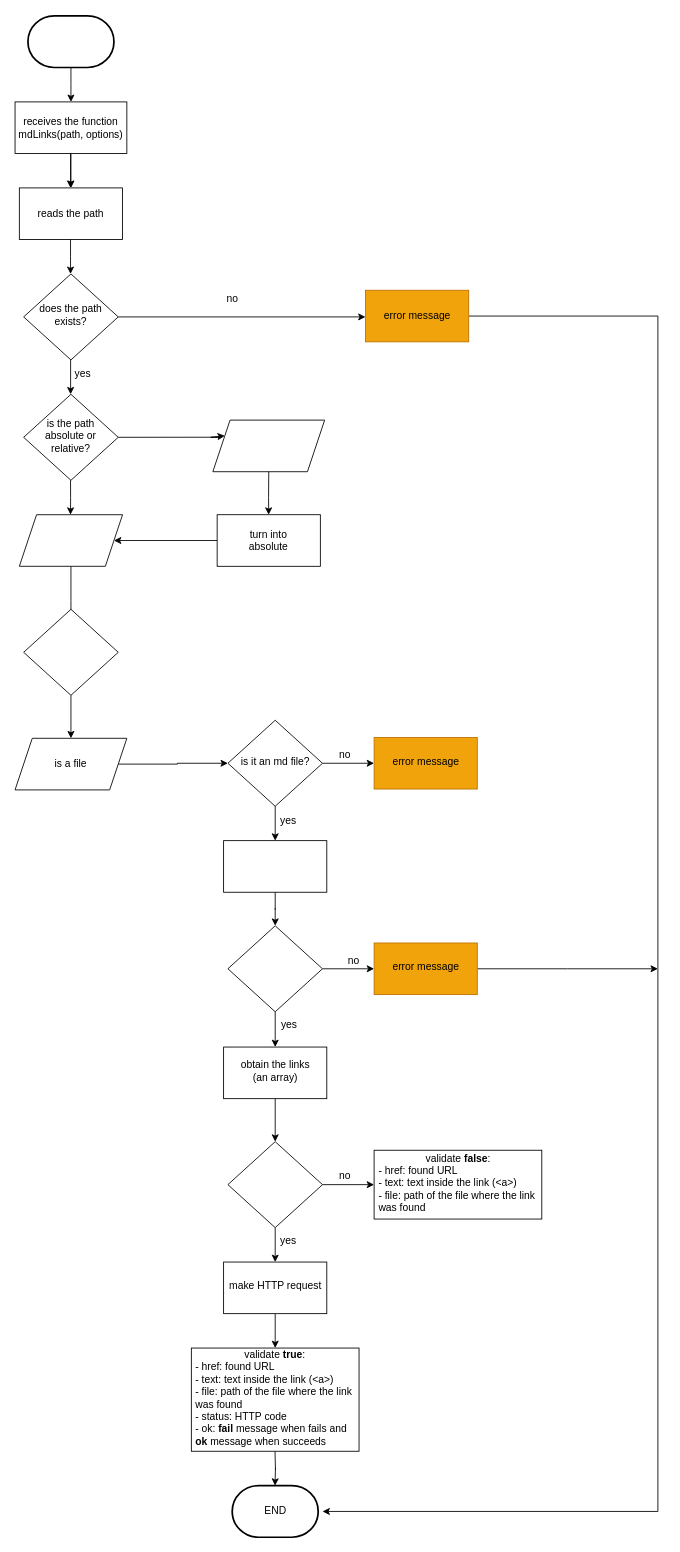
The diagram is 680 pixels wide and 1552 high, and some of its shapes have lost their labels. Here are the shapes that lost their labels. From the top down, the centre of each, then its label:
the point at 70,41: START
the point at 268,445: is relative
the point at 70,540: is absolute
the point at 70,651: is it a file or a directory
the point at 275,866: scan the file
the point at 274,968: does it include links?
the point at 274,1184: is it valid?
